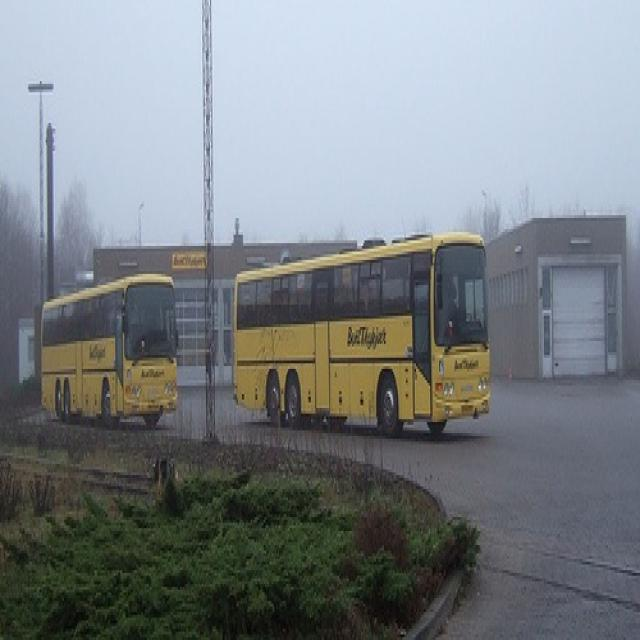bus: (233, 229, 491, 436), (40, 268, 179, 428)
